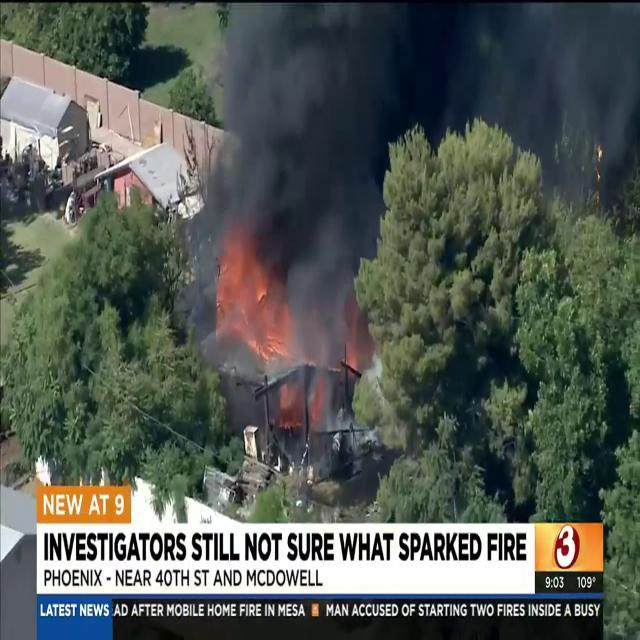Fire: (214, 236, 291, 372)
Smoke: (188, 2, 638, 258)
